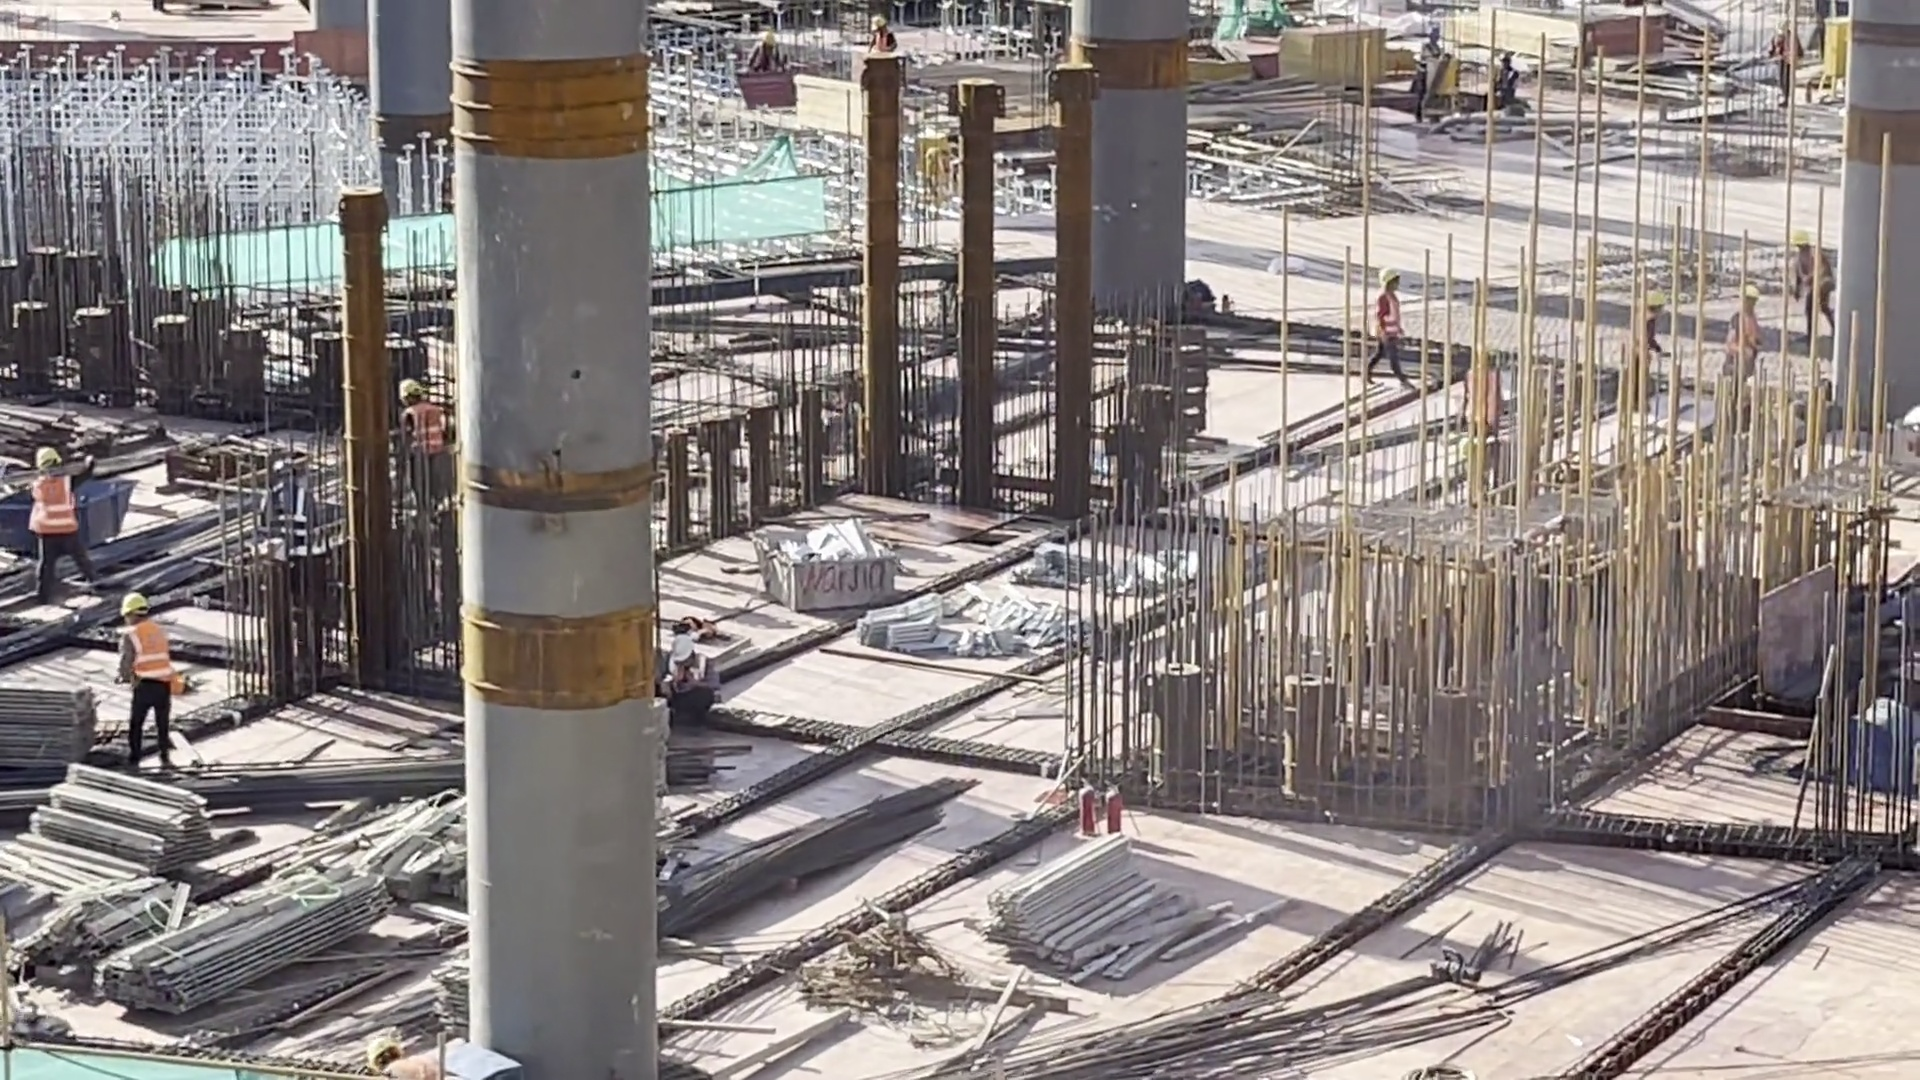helmet: (112, 591, 156, 617), (28, 439, 69, 465), (1782, 220, 1812, 250), (670, 631, 696, 663), (399, 371, 422, 405), (1644, 276, 1660, 313), (1377, 271, 1403, 290)
hook: (663, 626, 726, 724)
hopper: (747, 504, 906, 617), (1, 461, 151, 553)
person: (103, 583, 192, 776), (1348, 257, 1425, 419), (21, 437, 88, 563), (1784, 230, 1848, 363), (1618, 283, 1686, 390), (388, 367, 455, 471), (1723, 276, 1773, 390), (843, 1, 897, 71), (744, 12, 788, 90), (1417, 12, 1454, 95), (1488, 30, 1512, 105)
vest: (119, 624, 175, 701), (1723, 308, 1774, 368), (29, 478, 81, 530), (395, 397, 437, 448), (1366, 297, 1407, 346), (1629, 322, 1664, 363), (1796, 260, 1834, 290)
wood: (100, 852, 389, 1016), (1004, 824, 1203, 995), (40, 753, 207, 889), (1, 658, 93, 786)
